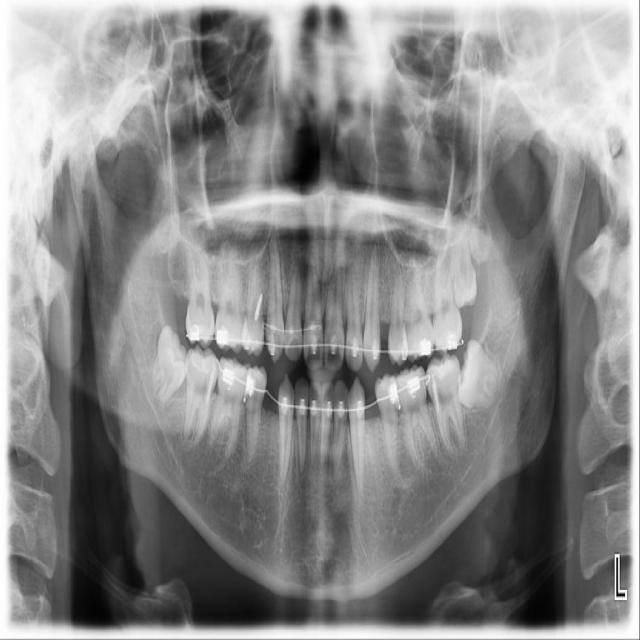impacted tooth: (461, 341, 500, 405), (454, 219, 478, 315)
